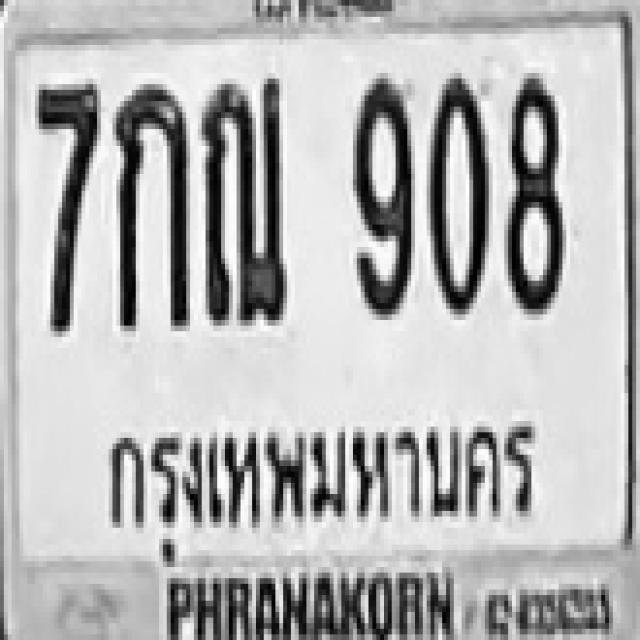0: (427, 73, 485, 309)
10GorGai: (113, 78, 186, 326)
28NorNen: (202, 73, 283, 320)
7: (35, 79, 97, 331), (35, 78, 97, 280)
8: (504, 73, 562, 309)
9: (349, 73, 411, 314)
Bangkok: (98, 417, 542, 531)
